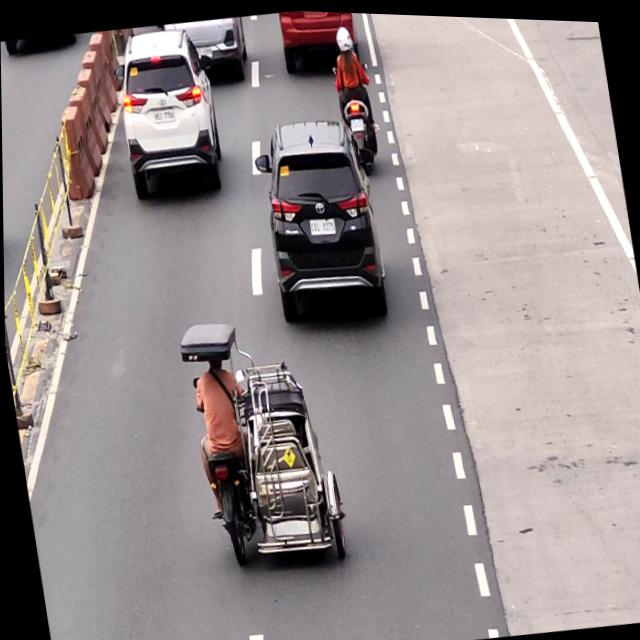Car: (253, 108, 385, 326), (110, 25, 225, 196), (163, 13, 251, 85)
License-Plate: (306, 213, 340, 236), (153, 105, 178, 125), (348, 115, 366, 130)
Motorcycle: (331, 28, 382, 171)
Tricycle: (177, 305, 349, 566)
